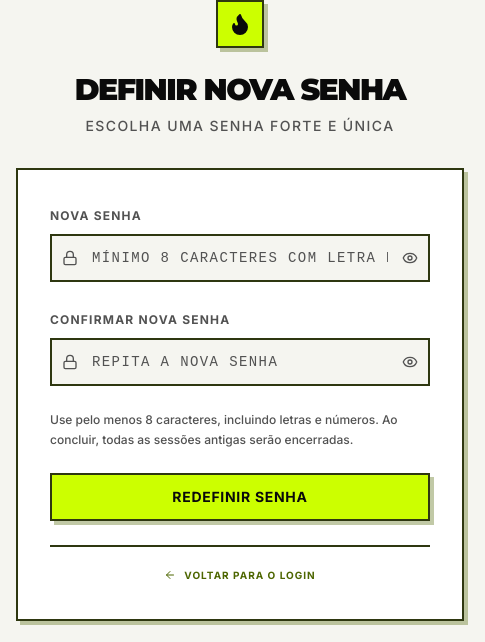
ResetPasswordPage (BL-05) › redefine a senha, encerra a sessão antiga e orienta o login sem abrir nova sessão
This screenshot has width=485, height=642.
Type "novaSenha123" into the password field labelled "Nova senha". click: (240, 258)
box: x1=50 y1=234 x2=430 y2=282
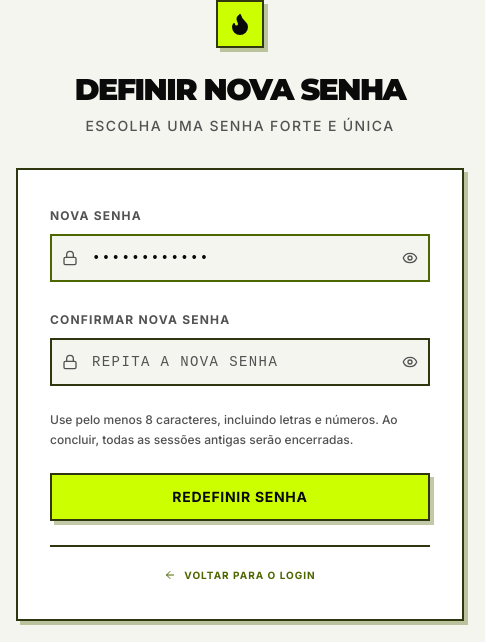
Type "novaSenha123" into the password field labelled "Confirmar nova senha". click: (240, 362)
box: x1=50 y1=338 x2=430 y2=386
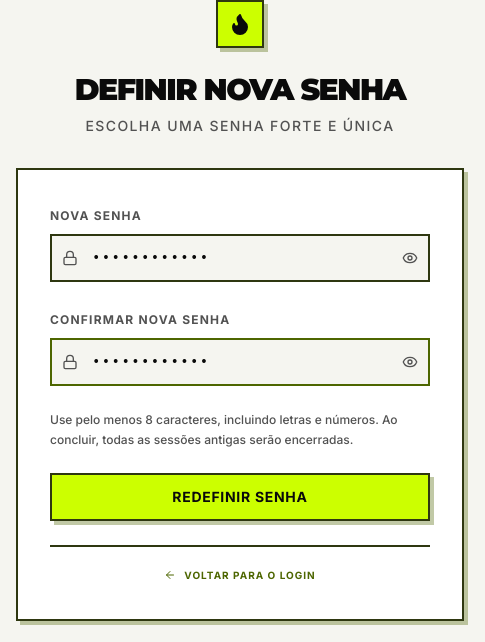
Click the button "Redefinir senha". click: (240, 497)
box: x1=50 y1=473 x2=430 y2=521
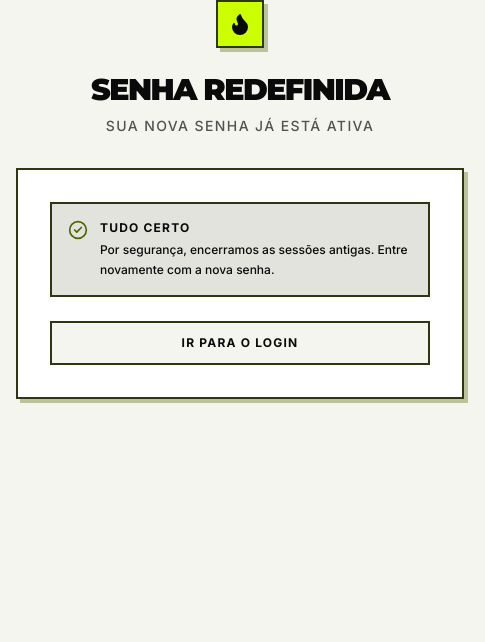
Expected: the heading "Senha redefinida" is shown, x1=91 y1=71 x2=389 y2=108
